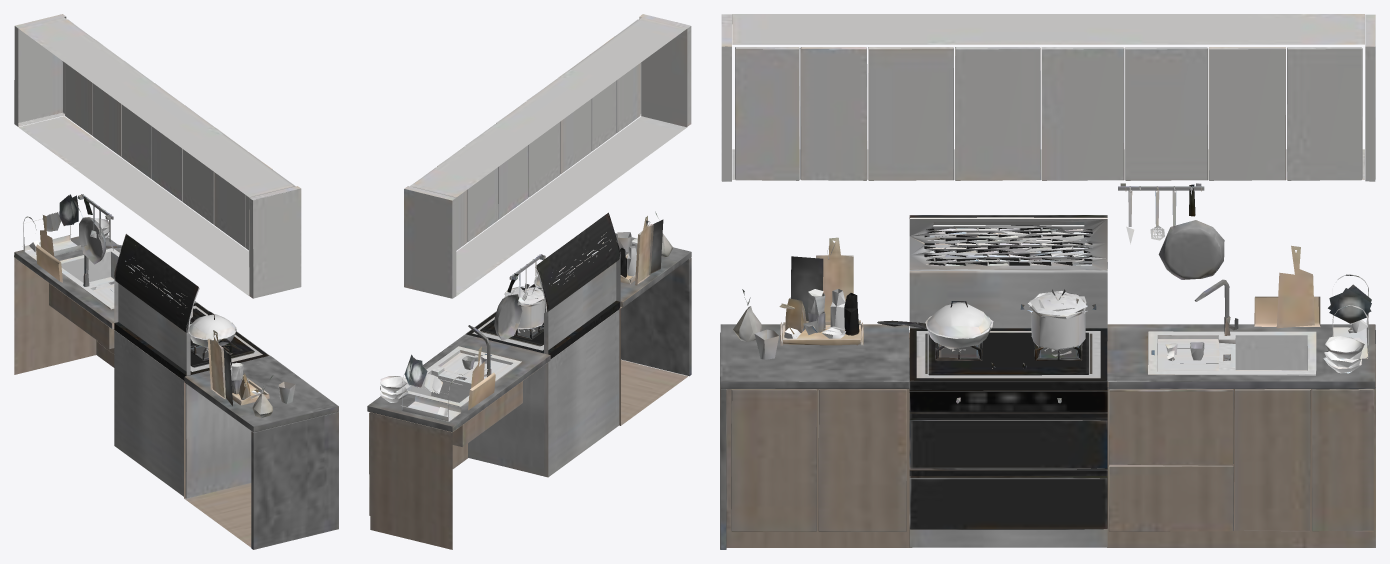
Rendered from Kitchen0002.obj.
The picture shows the model from 3 angles, left to right: view 1: azimuth 30°, elevation 25°; view 2: azimuth 150°, elevation 25°; view 3: azimuth 270°, elevation 25°; orthographic projection. The views are drawn at different scales.
Bounding box in the file's own units: 0.654 × 2.44 × 3.03.
Materials: 1 (1 with a texture image).
